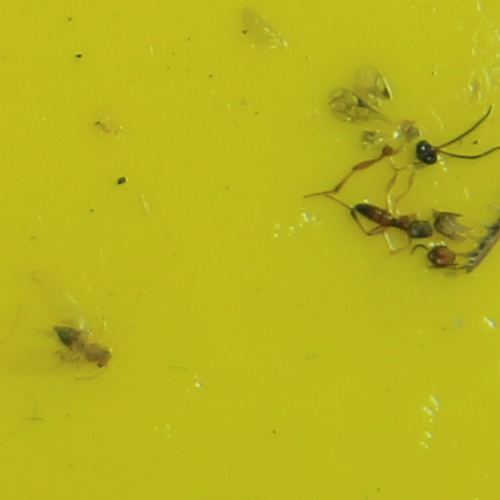Glycaspis: (54, 323, 116, 371)
